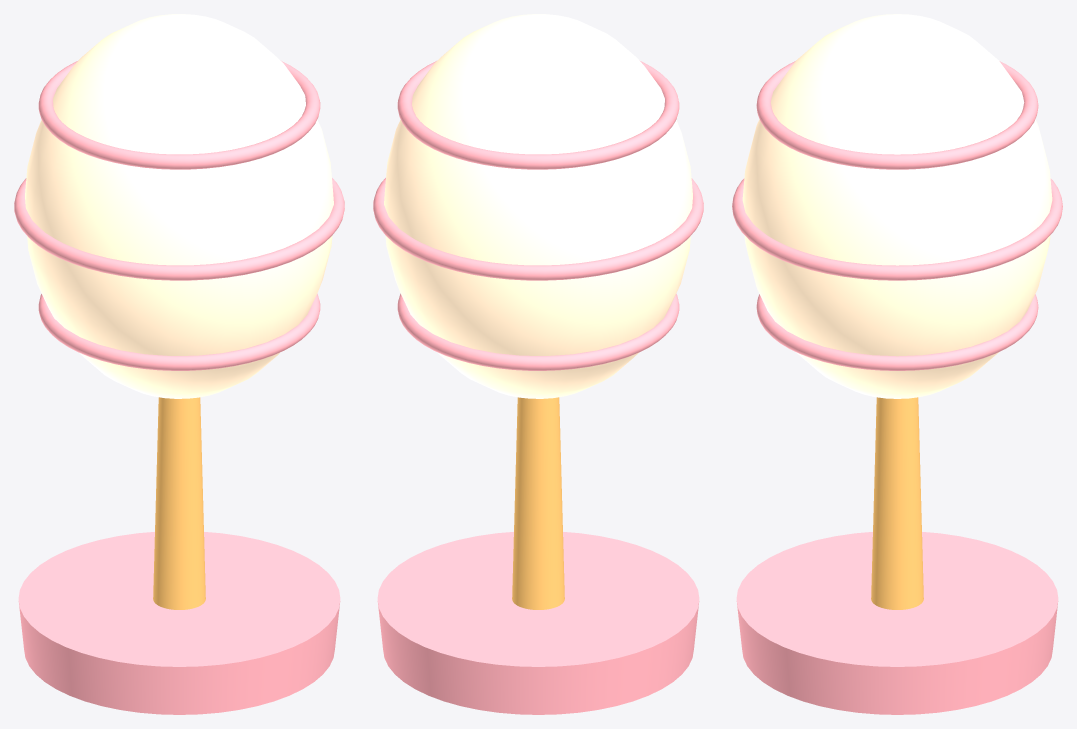
The model's file is blush_lantern.glb.
3 views of the same model, side by side, from view 1: azimuth 30°, elevation 25°; view 2: azimuth 150°, elevation 25°; view 3: azimuth 270°, elevation 25° (orthographic).
Parts seen in each view (by area): view 1: blush_lantern; view 2: blush_lantern; view 3: blush_lantern.
Part boxes in pixels (x1,y1,x2,y2): blush_lantern: [14, 14, 344, 714]; blush_lantern: [373, 14, 703, 714]; blush_lantern: [732, 14, 1062, 714].
Size of the model in its own units: 0.298 by 0.62 by 0.298.
